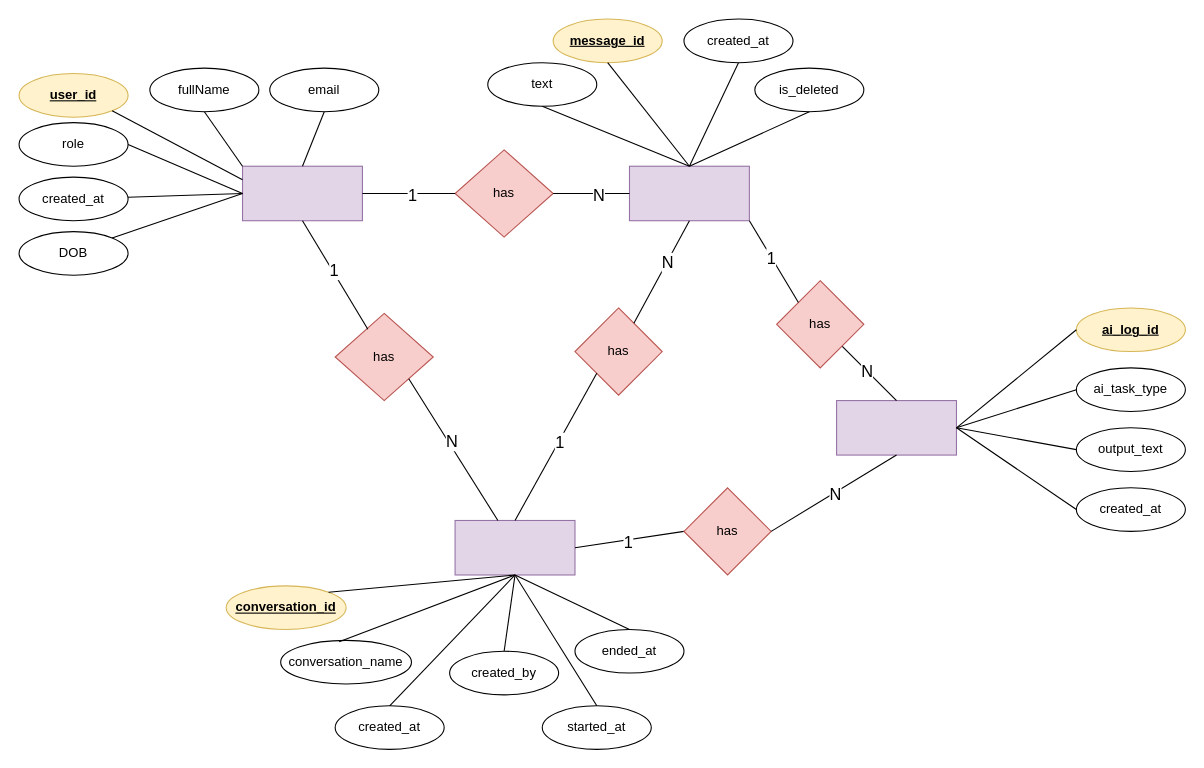
Image size: 1204x768. Some labels were removed from this diagram. The shapes that lost their labels are listed below. From the top down, each one's box as (x1, y1, x2, y2) in pixels, then its label:
(241, 165, 362, 221): Users
(628, 165, 749, 221): Message
(835, 399, 956, 455): AI_Log
(454, 519, 575, 575): Conversation
